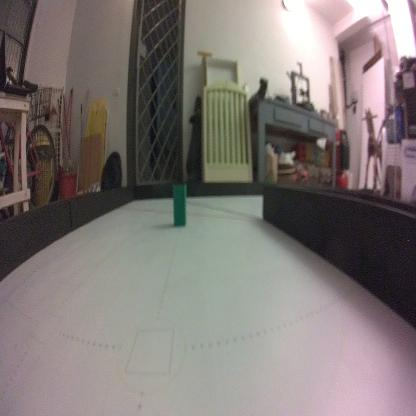green: (170, 180, 188, 228)
